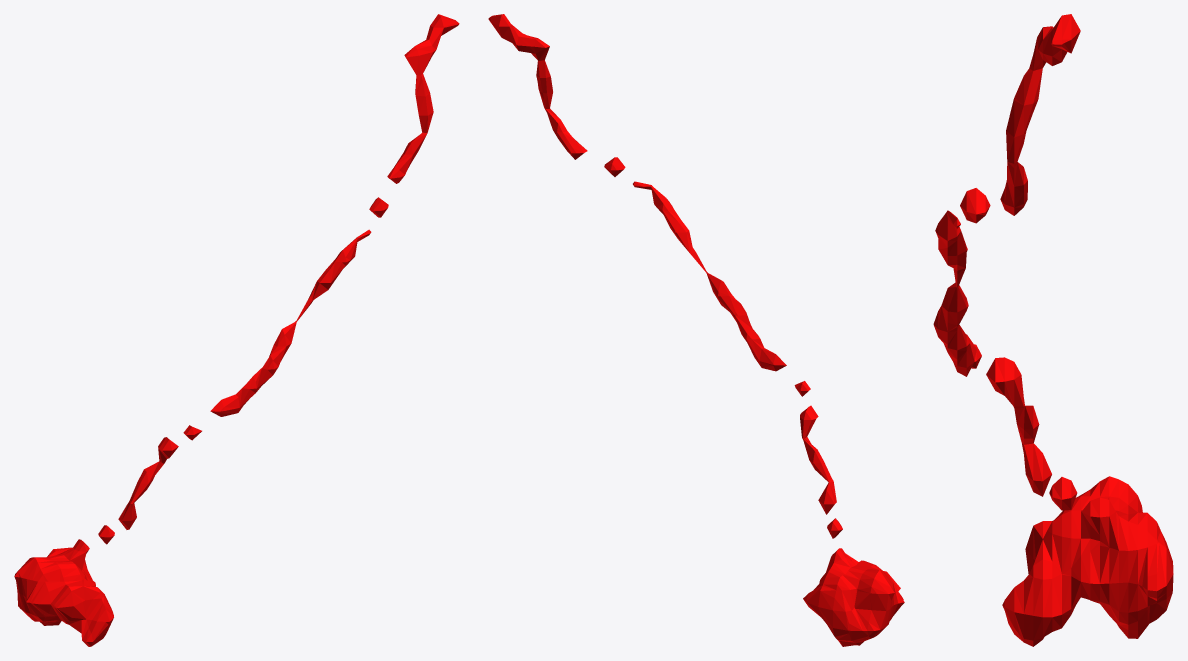
File: hldE_coarse.dae
3 renders of one model, left to right at view 1: azimuth 30°, elevation 25°; view 2: azimuth 150°, elevation 25°; view 3: azimuth 270°, elevation 25°, orthographic. The views are drawn at different scales.
Visible parts, largest first — view 1: hldE; view 2: hldE; view 3: hldE.
Part boxes in pixels (x1,y1,x2,y2): hldE: (14, 14, 459, 646); hldE: (488, 14, 904, 646); hldE: (933, 14, 1173, 646).
Bounding box in the file's own units: 295 × 354 × 82.29.
